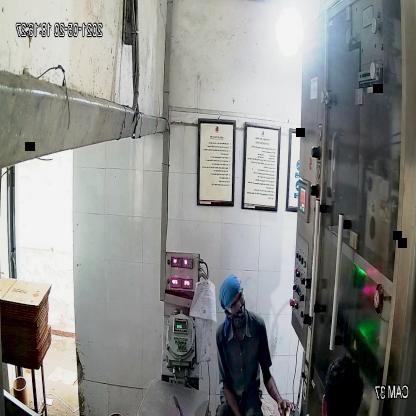goggles: (223, 290, 246, 314)
